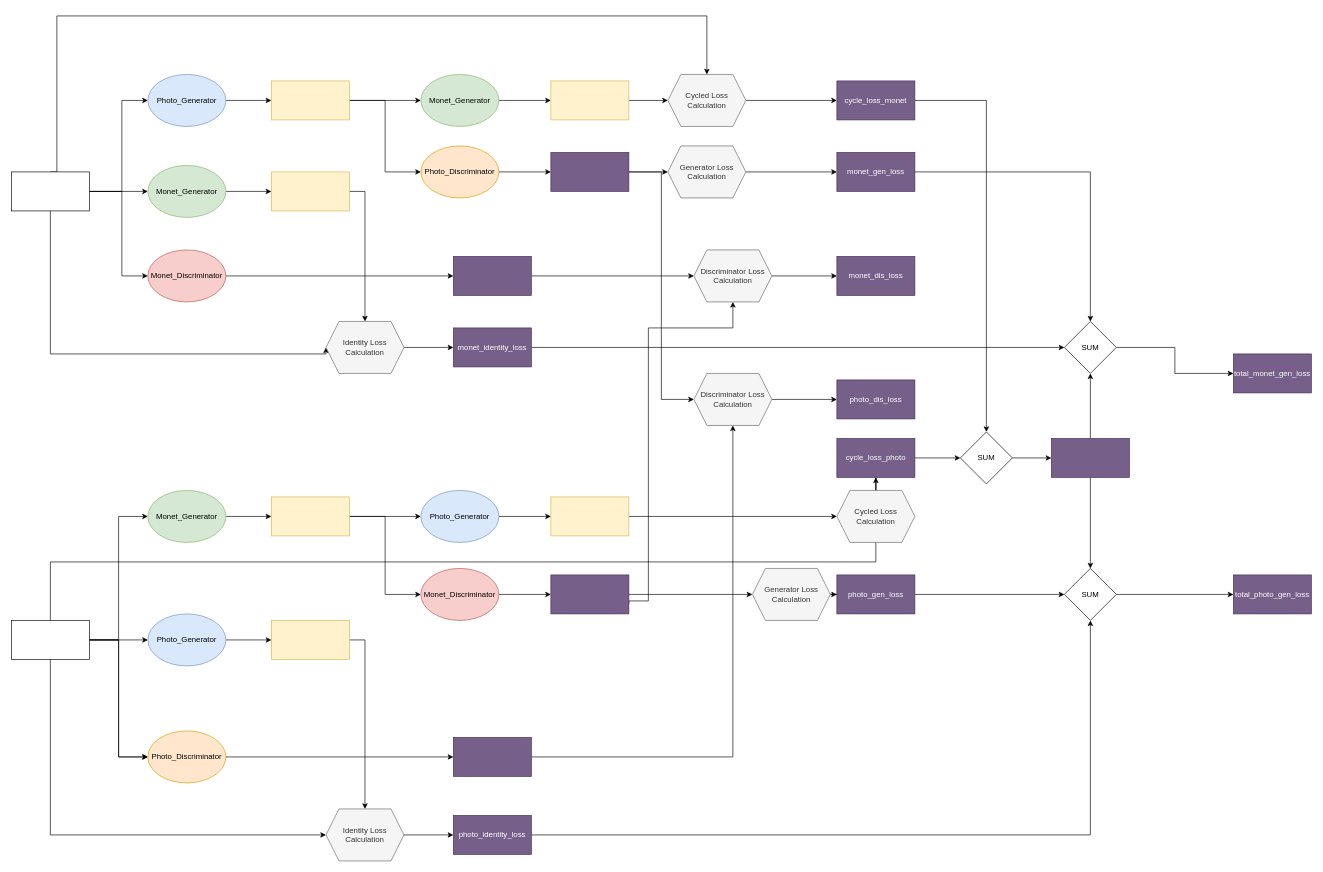
This 1323x872 diagram has some shape labels left out. The centre of each missing label's shape, as x and y in pixels:
"Cycled Monet" belongs at pixel 589 100.
"Cycled Photo" belongs at pixel 589 516.
"disc_fake_monet" belongs at pixel 589 594.
"disc_fake_photo" belongs at pixel 589 171.
"disc_real_monet" belongs at pixel 492 275.
"disc_real_photo" belongs at pixel 492 756.
"Fake Monet" belongs at pixel 310 516.
"Fake Photo" belongs at pixel 310 100.
"Real Monet" belongs at pixel 50 191.
"Real Photo" belongs at pixel 50 639.
"Regenerated Monet" belongs at pixel 310 191.
"Regenerated Photo" belongs at pixel 310 639.
"total_cycle_loss" belongs at pixel 1090 457.
